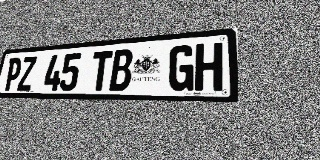4: (43, 54, 64, 91)
5: (59, 53, 81, 91)
B: (109, 49, 134, 91)
G: (168, 44, 195, 91)
H: (194, 42, 223, 91)
P: (3, 57, 23, 91)
T: (89, 50, 113, 91)
Z: (17, 56, 37, 91)
